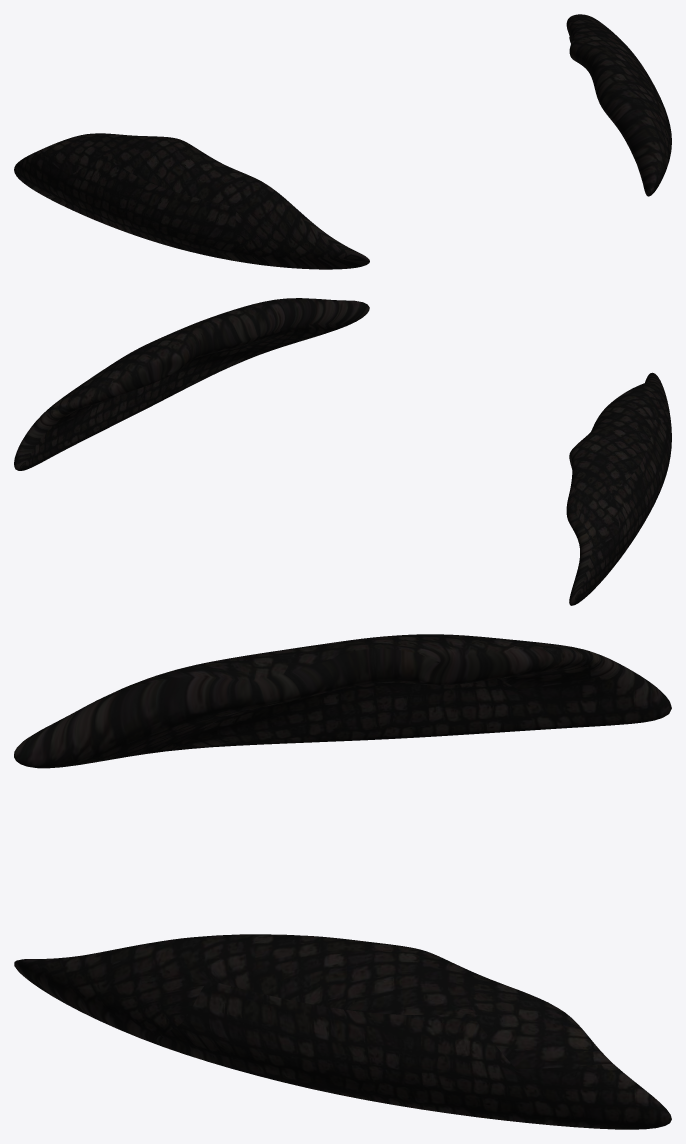
The picture shows the model from 3 angles, top to bottom: view 1: azimuth 30°, elevation 25°; view 2: azimuth 150°, elevation 25°; view 3: azimuth 270°, elevation 25°; orthographic projection. The views are drawn at different scales.
Visible parts, largest first — view 1: Cube.007; view 2: Cube.007; view 3: Cube.007.
Part boxes in pixels (left/top/right/bottom): Cube.007: left=14, top=14, right=671, bottom=269; Cube.007: left=14, top=298, right=671, bottom=605; Cube.007: left=14, top=634, right=671, bottom=1129.
Bounding box in the file's own units: 0.1068 × 0.0161 × 0.0709.
Materials: 1 (1 with a texture image).
